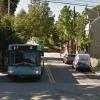buses: (5, 42, 45, 80)
